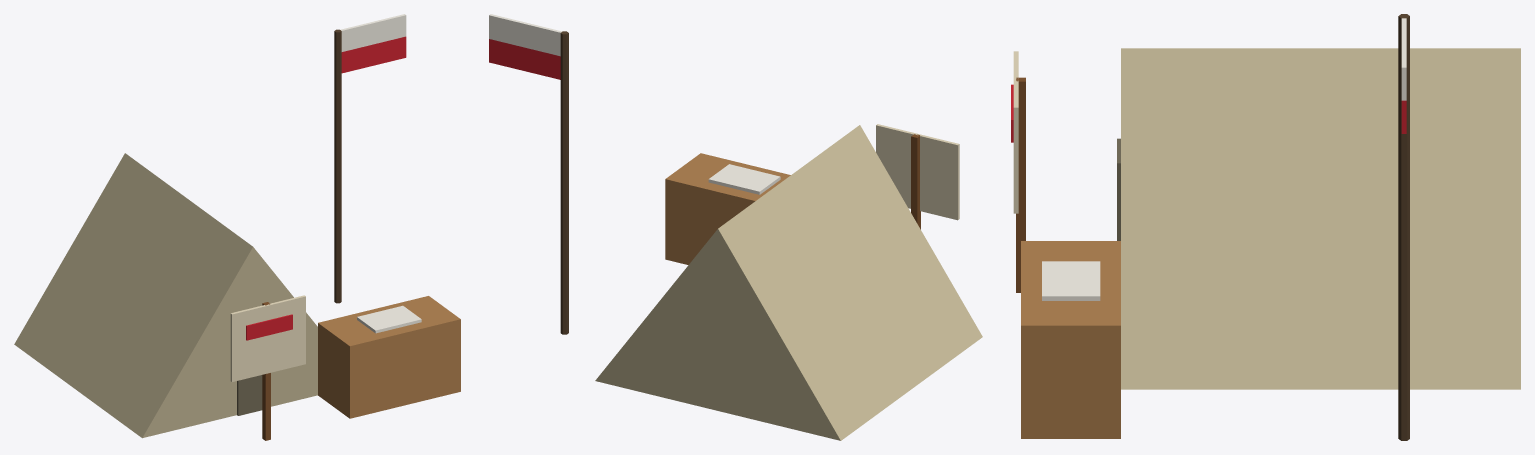
File: werbunek.glb
3 views of the same model, side by side, from view 1: azimuth 30°, elevation 25°; view 2: azimuth 150°, elevation 25°; view 3: azimuth 270°, elevation 25° (orthographic). The views are drawn at different scales.
Visible parts, largest first — view 1: werbunek; view 2: werbunek; view 3: werbunek.
Boxes of the visible parts, left/top/right/bottom form: werbunek: left=14, top=14, right=460, bottom=440; werbunek: left=489, top=14, right=982, bottom=440; werbunek: left=1011, top=14, right=1520, bottom=440.
Bounding box in the file's own units: 3.83 × 2.8 × 3.06.
